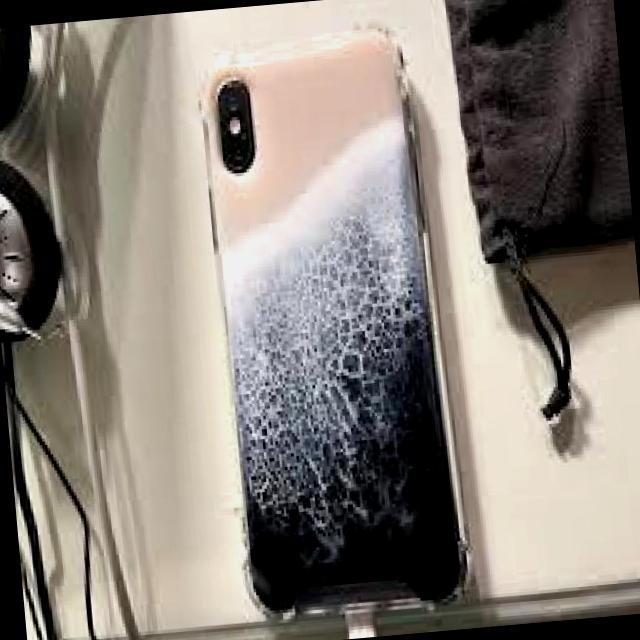lens_back: (221, 132, 254, 174), (220, 86, 247, 116)
phone: (197, 27, 462, 628)
